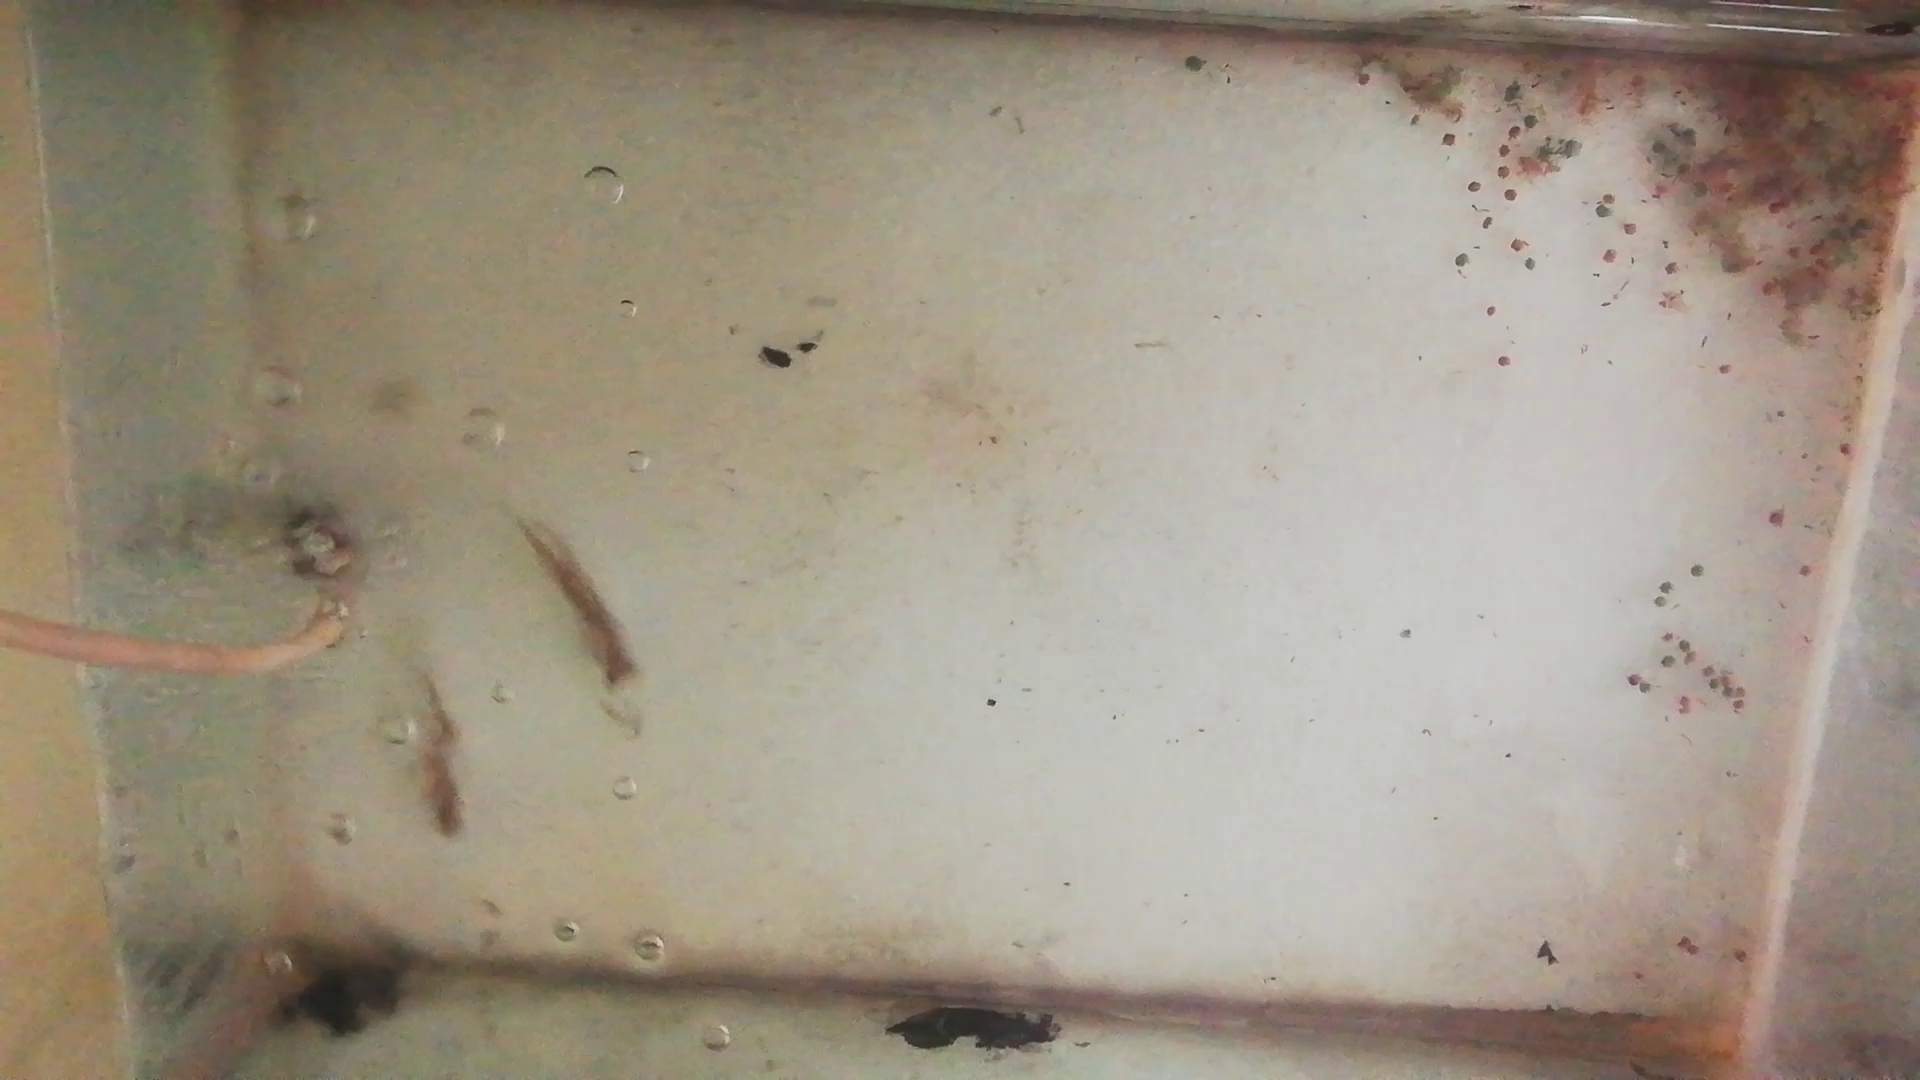fish: (516, 516, 647, 699), (398, 665, 472, 837)
